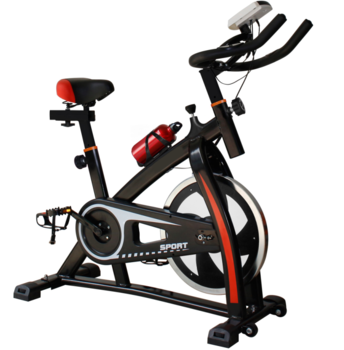gym_bike: (17, 6, 316, 347)
